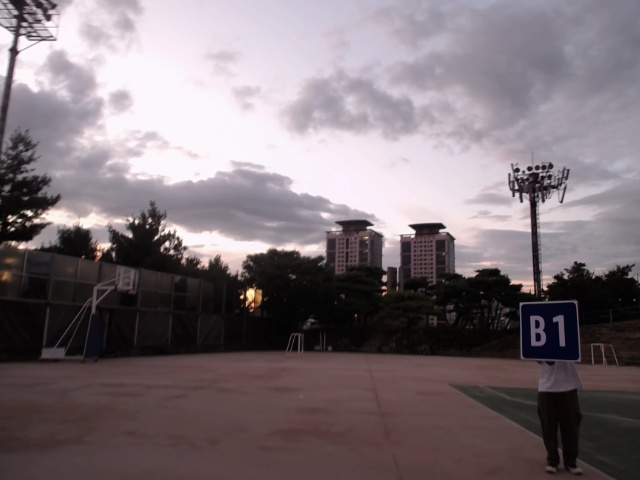delivery_b1: (520, 301, 582, 362)
